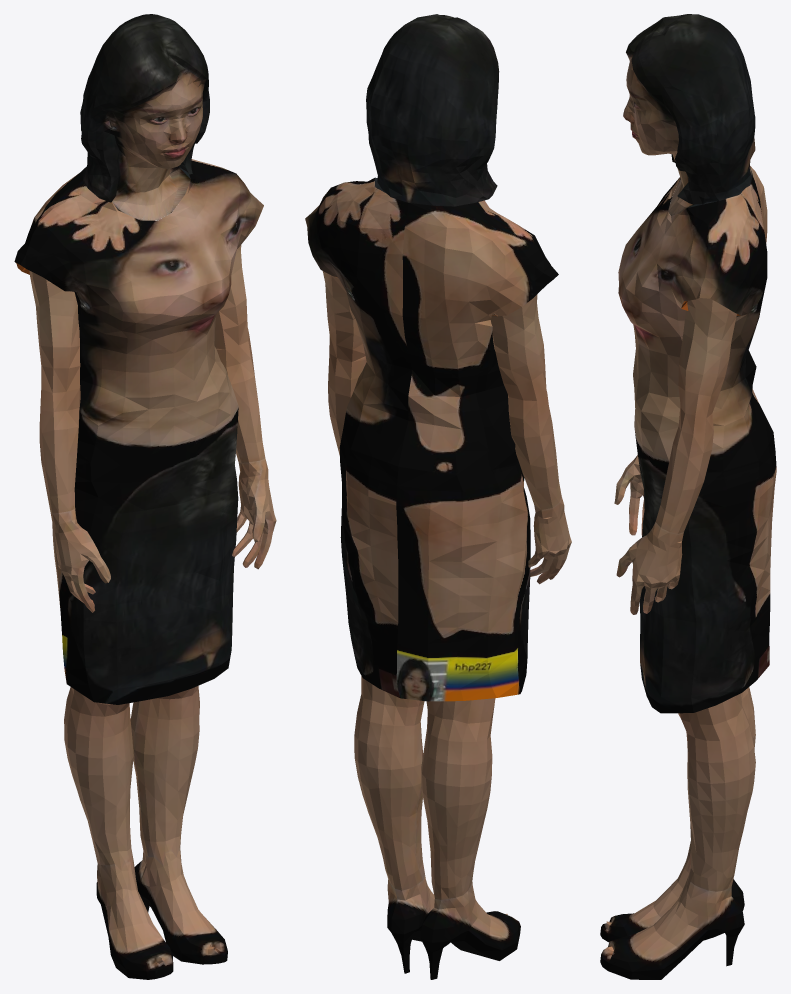
3 renders of one model, left to right at view 1: azimuth 30°, elevation 25°; view 2: azimuth 150°, elevation 25°; view 3: azimuth 270°, elevation 25°, orthographic.
Parts seen in each view (by area): view 1: m.obj; view 2: m.obj; view 3: m.obj.
Boxes of the visible parts, x1,y1,x2,y2 form: m.obj: [14, 14, 276, 979]; m.obj: [305, 14, 571, 979]; m.obj: [600, 14, 776, 979].
Size of the model in its own units: 19.29 by 69.54 by 11.85.
Materials: 1 (1 with a texture image).
